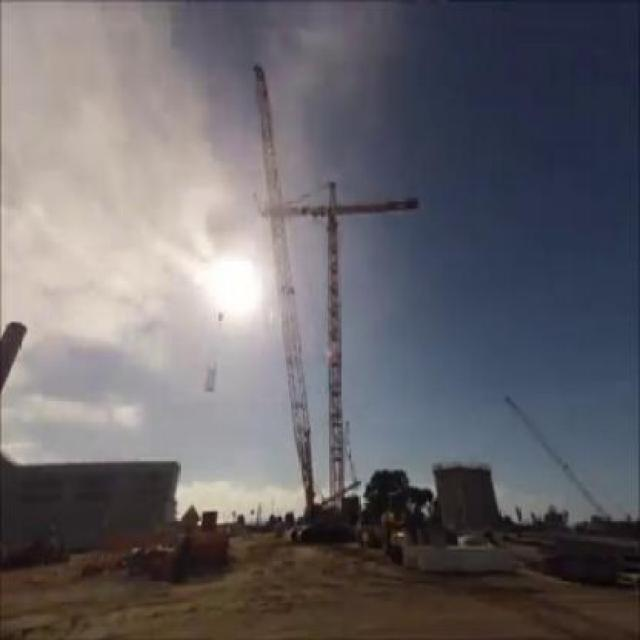Mobile Crane: (249, 60, 354, 545)
